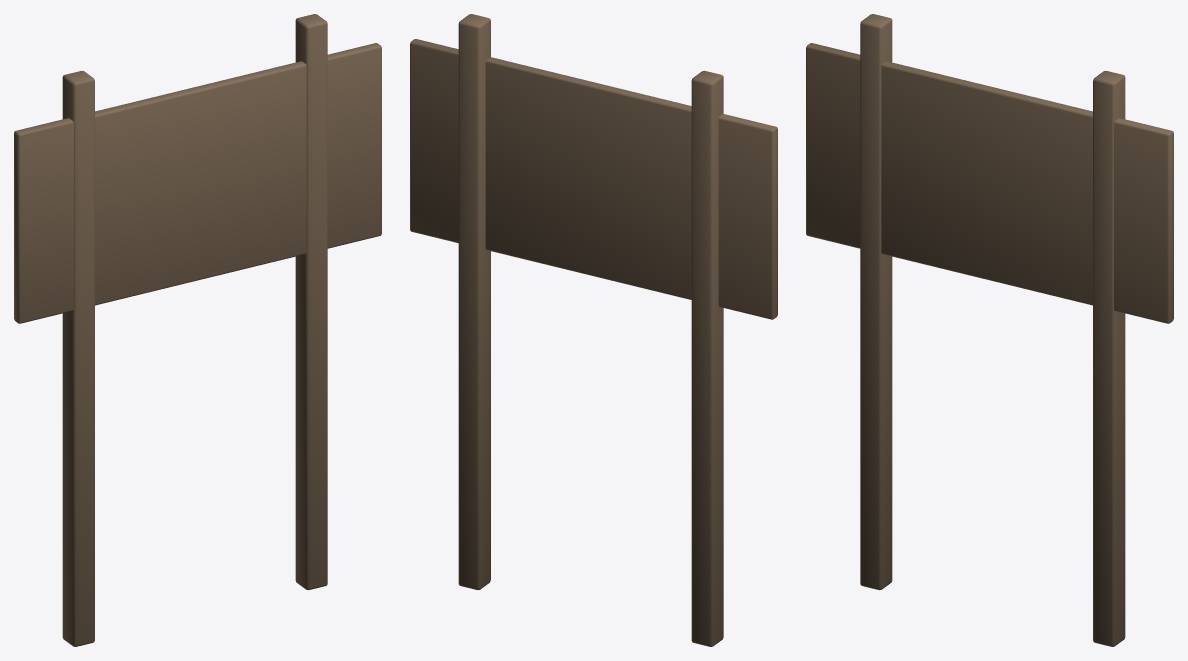
Rendered from highway_sign.glb.
3 views of the same model, side by side, from view 1: azimuth 30°, elevation 25°; view 2: azimuth 150°, elevation 25°; view 3: azimuth 330°, elevation 25° (orthographic).
Visible parts, largest first — view 1: g_signbrown, g_signpost; view 2: g_signbrown, g_signpost; view 3: g_signbrown, g_signpost.
Boxes of the visible parts, <box> form: g_signbrown: <box>14,43,381,323</box>; g_signpost: <box>62,14,327,646</box>; g_signbrown: <box>410,39,777,319</box>; g_signpost: <box>458,14,723,646</box>; g_signbrown: <box>806,43,1173,323</box>; g_signpost: <box>860,14,1125,646</box>.
Size of the model in its own units: 1.5 by 2.22 by 0.09.
